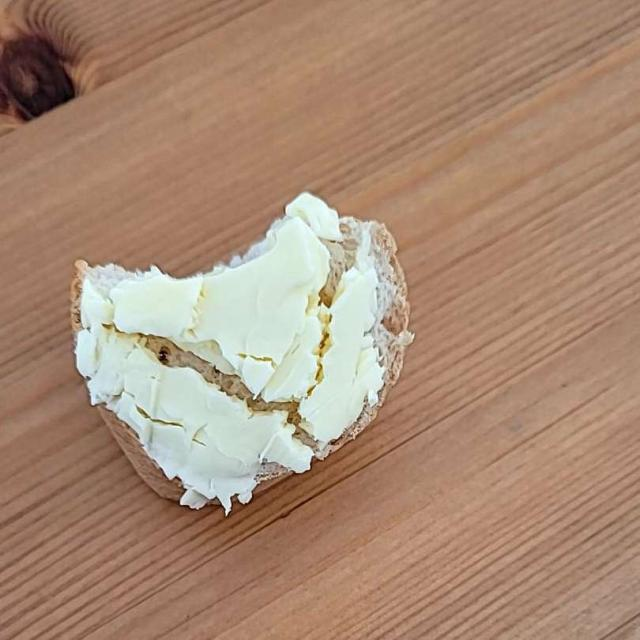bread-french-white-flour: (74, 199, 409, 507)
butter: (79, 201, 390, 489)
